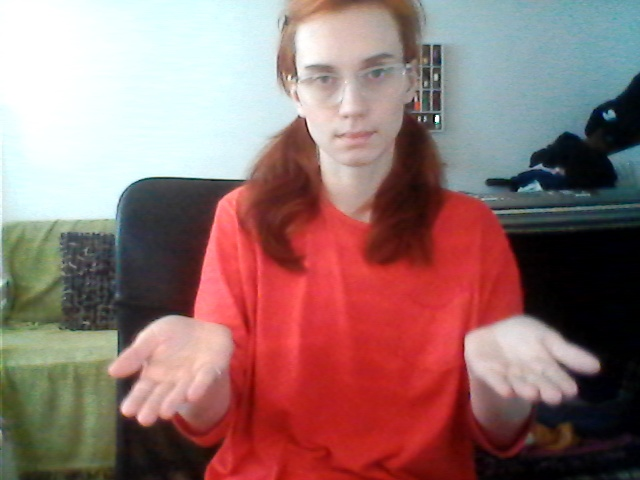alebo: (93, 306, 624, 453)
